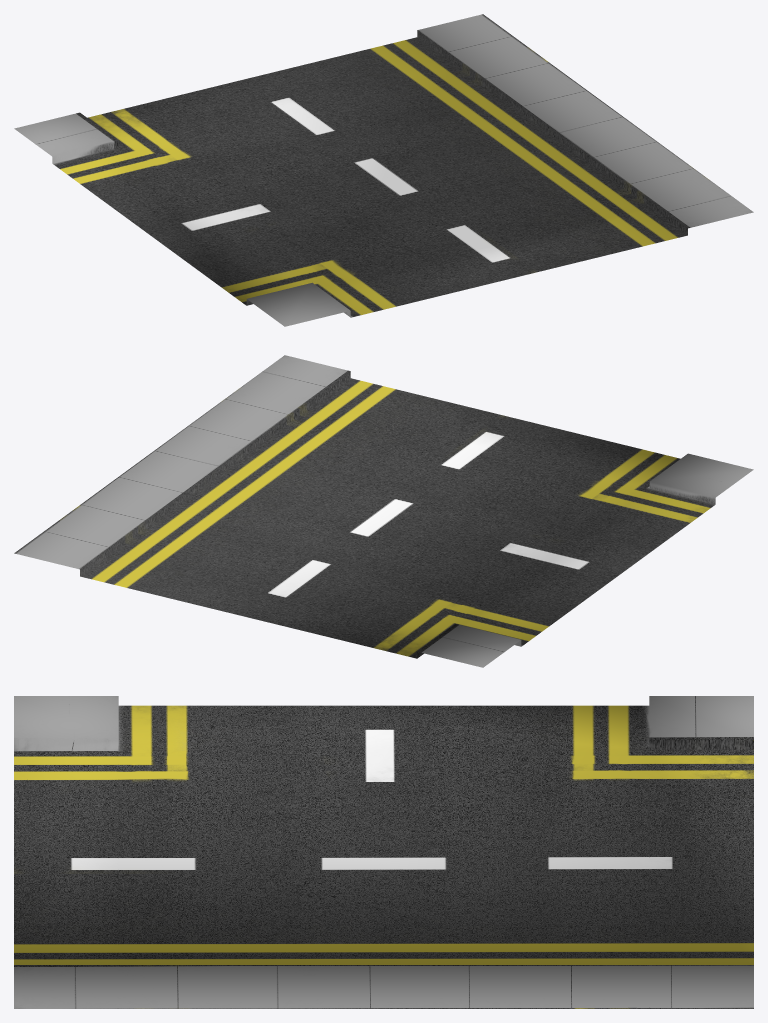
The model's file is TJunc.obj.
The picture shows the model from 3 angles, top to bottom: view 1: azimuth 30°, elevation 25°; view 2: azimuth 150°, elevation 25°; view 3: azimuth 270°, elevation 25°; orthographic projection. The views are drawn at different scales.
Parts seen in each view (by area): view 1: TJunc:pPlane2; view 2: TJunc:pPlane2; view 3: TJunc:pPlane2.
Boxes of the visible parts, <box> form: TJunc:pPlane2: <box>14,14,753,326</box>; TJunc:pPlane2: <box>14,355,753,667</box>; TJunc:pPlane2: <box>14,696,753,1008</box>.
Bounding box in the file's own units: 50 × 0.7134 × 50.
1 material, 1 textured.
